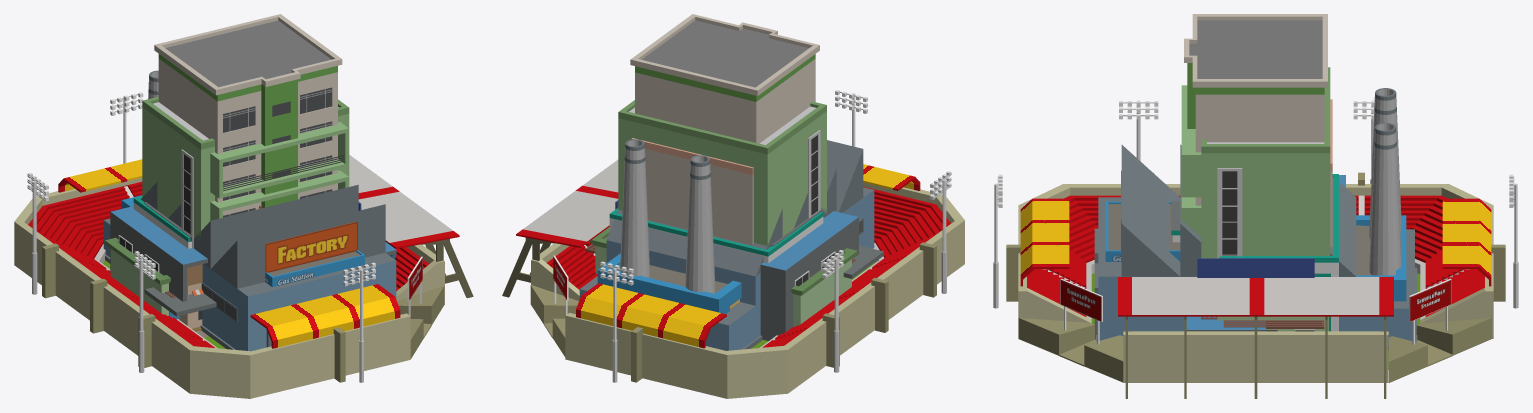
Rendered from city.glb.
3 renders of one model, left to right at view 1: azimuth 30°, elevation 25°; view 2: azimuth 150°, elevation 25°; view 3: azimuth 270°, elevation 25°, orthographic. The views are drawn at different scales.
Parts seen in each view (by area): view 1: B_Stadium, B_big, B_Factory, B_Residential, B_House04, B_SuperMarket, B_GasStation, B_House03, B_CoffeeShop; view 2: B_Stadium, B_big, B_Factory, B_Residential, B_small, B_House04, B_GasStation, B_SuperMarket, B_House03; view 3: B_Stadium, B_Factory, B_big, B_Residential, B_GasStation, B_House03, B_SuperMarket, B_House04.
Boxes of the visible parts, <box> form: B_Stadium: <box>14,92,473,398</box>; B_big: <box>154,14,342,217</box>; B_Factory: <box>103,70,396,351</box>; B_Residential: <box>142,96,349,248</box>; B_House04: <box>110,206,396,331</box>; B_SuperMarket: <box>105,237,176,315</box>; B_GasStation: <box>121,195,364,287</box>; B_House03: <box>133,196,191,248</box>; B_CoffeeShop: <box>179,264,203,329</box>; B_Stadium: <box>502,90,964,398</box>; B_big: <box>630,14,819,143</box>; B_Factory: <box>579,139,874,350</box>; B_Residential: <box>618,100,826,245</box>; B_small: <box>631,138,753,245</box>; B_House04: <box>760,211,883,340</box>; B_GasStation: <box>597,253,741,313</box>; B_SuperMarket: <box>585,227,857,326</box>; B_House03: <box>609,208,823,263</box>; B_Stadium: <box>993,100,1518,398</box>; B_Factory: <box>1094,88,1417,350</box>; B_big: <box>1184,14,1327,205</box>; B_Residential: <box>1181,67,1330,258</box>; B_GasStation: <box>1105,201,1406,301</box>; B_House03: <box>1171,174,1338,331</box>; B_SuperMarket: <box>1201,316,1328,331</box>; B_House04: <box>1186,175,1345,331</box>.
Size of the model in its own units: 35.46 by 24.8 by 44.76.
48 materials, 48 textured.
